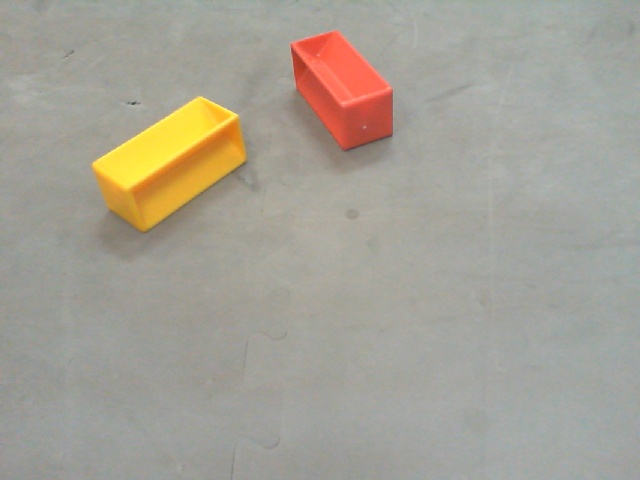RedSample: (289, 29, 395, 153)
YellowSample: (90, 94, 246, 235)
